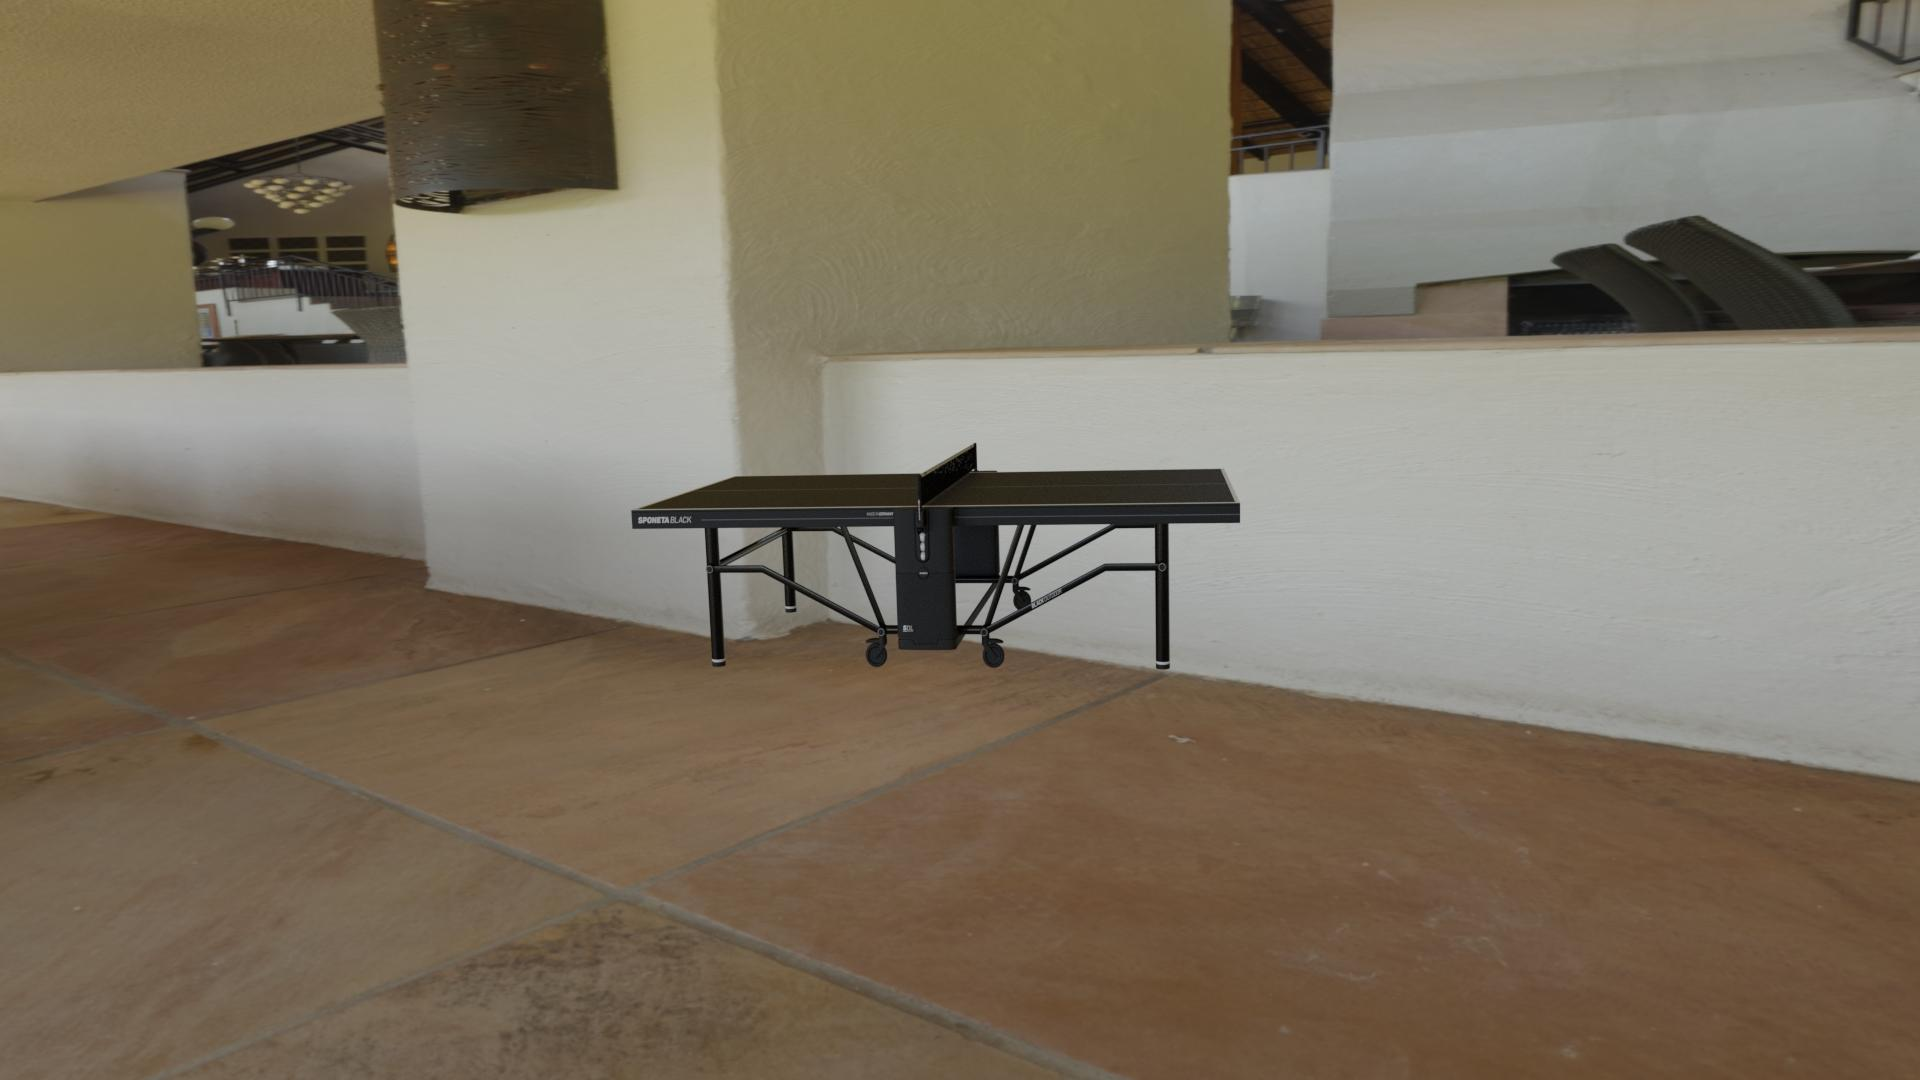table: (637, 469, 1236, 509)
